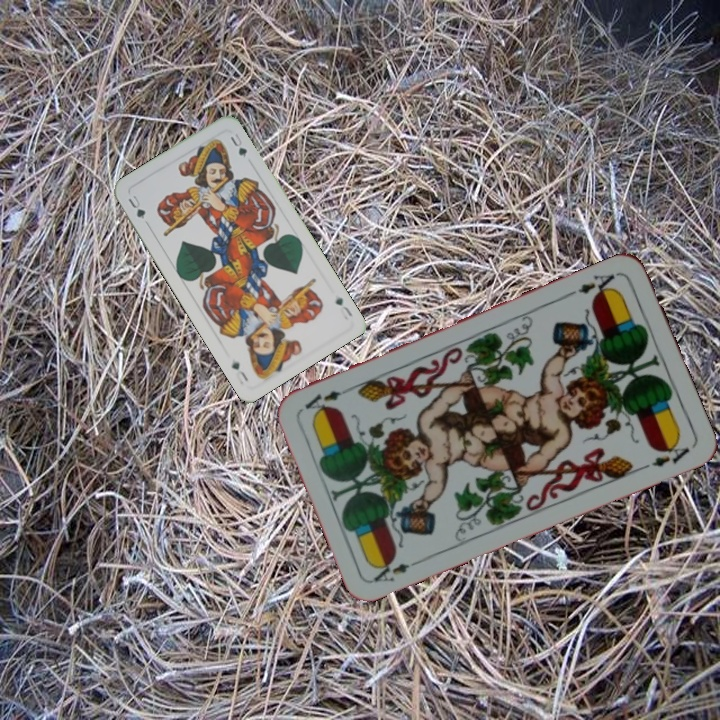EA: (369, 554, 425, 585), (574, 268, 621, 301)
GU: (124, 191, 148, 222), (331, 293, 355, 319)
